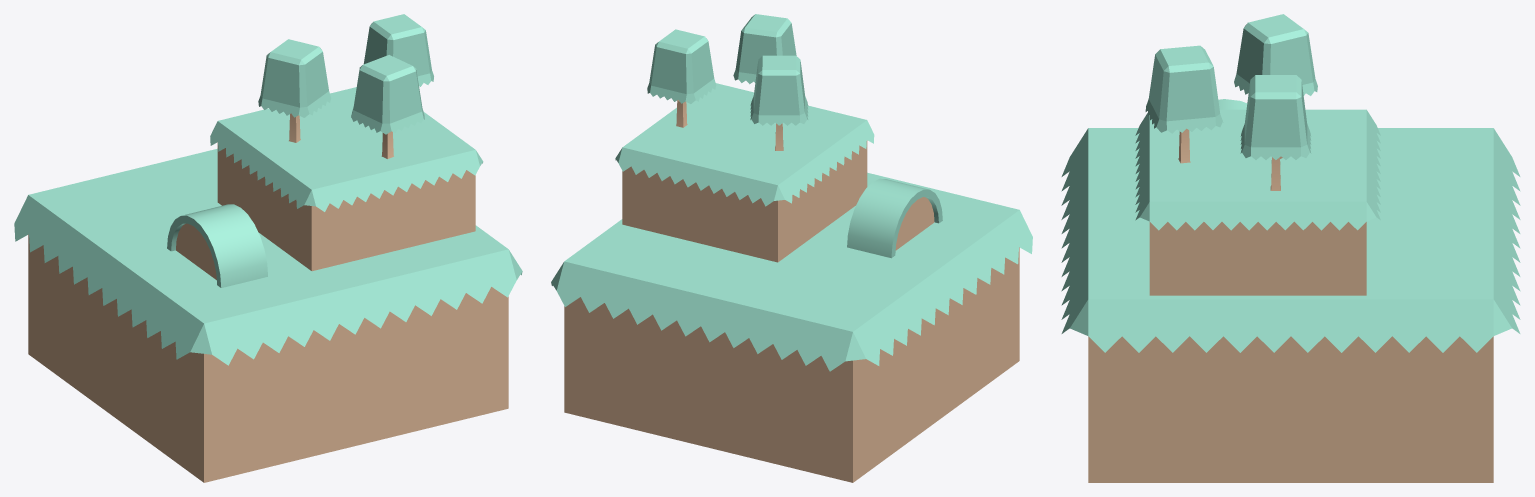
Rendered from FloatingIsland2.fbx.
3 views of the same model, side by side, from view 1: azimuth 30°, elevation 25°; view 2: azimuth 150°, elevation 25°; view 3: azimuth 270°, elevation 25° (orthographic). The views are drawn at different scales.
Visible parts, largest first — view 1: Island2; view 2: Island2; view 3: Island2.
Boxes of the visible parts, bbox=[...] form: Island2: bbox=[14, 14, 522, 482]; Island2: bbox=[551, 14, 1032, 482]; Island2: bbox=[1061, 14, 1520, 482].
Bounding box in the file's own units: 735 × 676 × 735.
